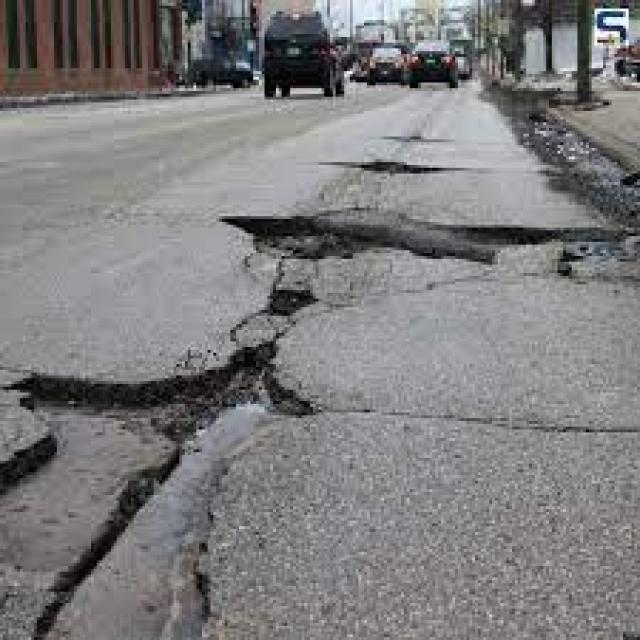Pothole: (0, 350, 313, 640)
